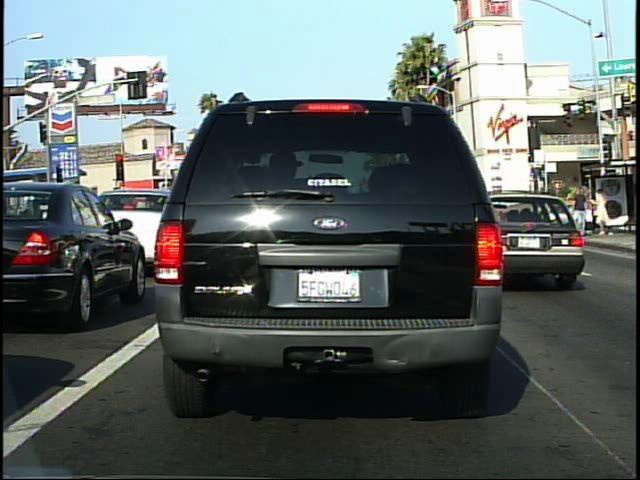person: (592, 185, 615, 237), (570, 184, 591, 239)
